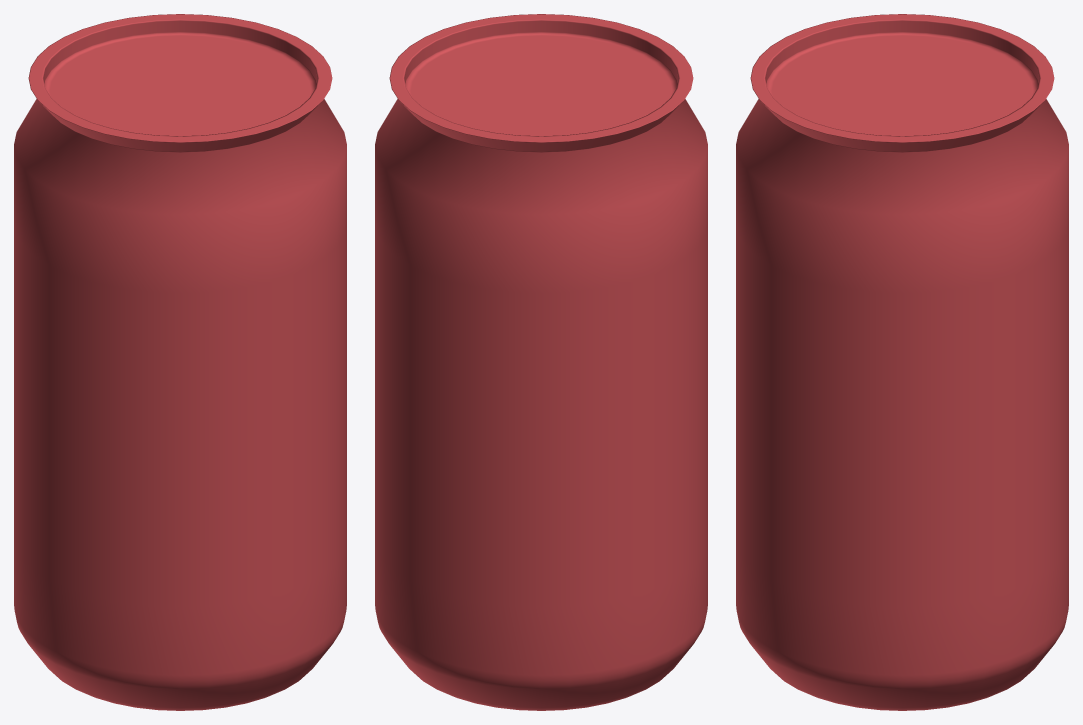
File: can.fbx
The picture shows the model from 3 angles, left to right: view 1: azimuth 30°, elevation 25°; view 2: azimuth 150°, elevation 25°; view 3: azimuth 270°, elevation 25°; orthographic projection.
Visible parts, largest first — view 1: Kaleng; view 2: Kaleng; view 3: Kaleng.
Part boxes in pixels (<box>): Kaleng: <box>14,14,346,710</box>; Kaleng: <box>375,14,707,710</box>; Kaleng: <box>736,14,1068,710</box>.
Size of the model in its own units: 200 by 383 by 200.
